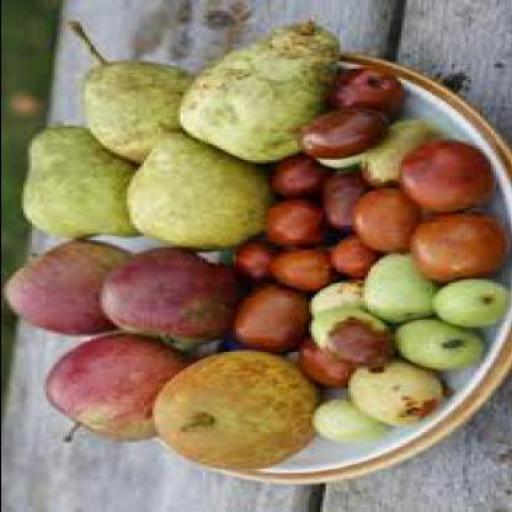biodegradable: (173, 16, 333, 162), (148, 347, 316, 467), (65, 16, 190, 162), (124, 123, 271, 246), (40, 332, 182, 445), (17, 123, 143, 238), (92, 246, 233, 345), (1, 240, 123, 332), (392, 140, 488, 212), (344, 361, 445, 423), (403, 210, 495, 276), (230, 280, 310, 354), (355, 118, 436, 186), (386, 316, 482, 370), (358, 251, 428, 324), (308, 305, 389, 367), (347, 182, 414, 251), (294, 106, 383, 156), (321, 67, 400, 118), (428, 276, 501, 326), (304, 398, 384, 441), (319, 166, 369, 233), (291, 333, 350, 389), (263, 244, 330, 289), (263, 197, 322, 246), (269, 154, 322, 199), (325, 234, 378, 276), (305, 276, 358, 315), (232, 238, 269, 280), (313, 153, 364, 171)
